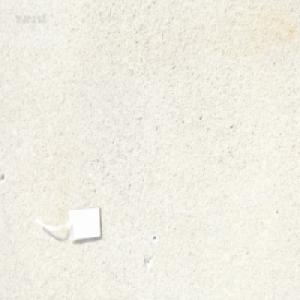LuggageTag: (34, 202, 103, 244)
